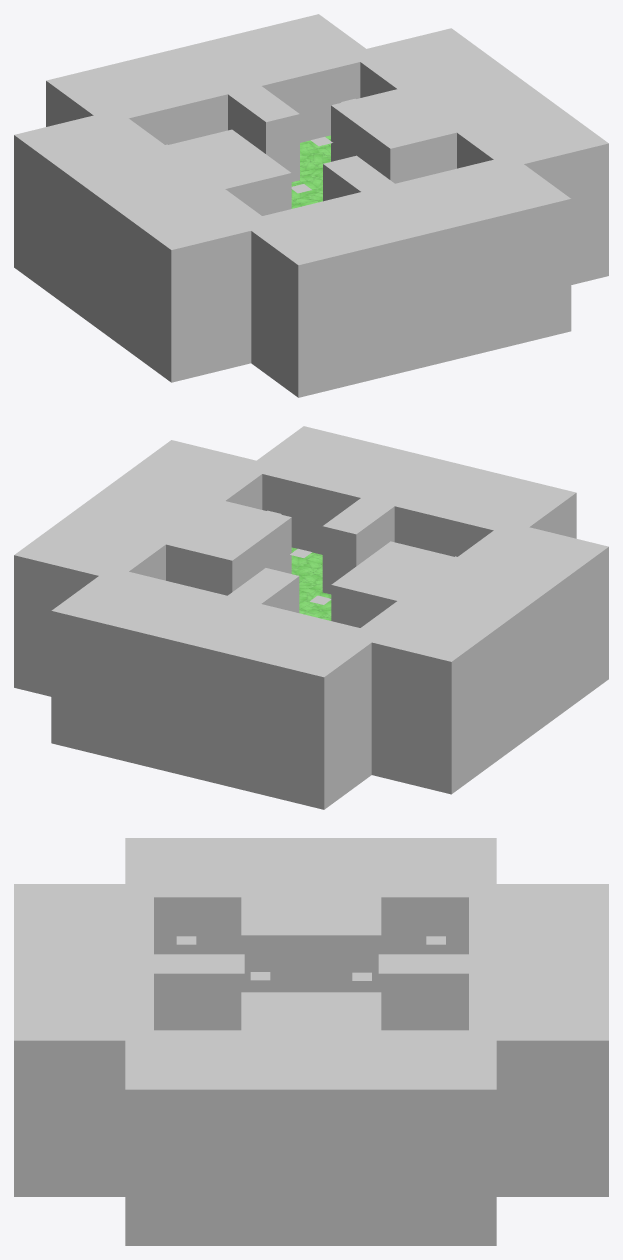
File: level_00.glb
3 renders of one model, top to bottom at view 1: azimuth 30°, elevation 25°; view 2: azimuth 150°, elevation 25°; view 3: azimuth 270°, elevation 25°, orthographic. The views are drawn at different scales.
Parts seen in each view (by area): view 1: Cube.Invisible.007, Cube.Invisible.008, Cube.Invisible.006, Cube.Invisible.004, Cube.Invisible.001, Cube.Invisible.002, Cube.Invisible.005, Cube.Invisible.003, Cube.003, Cube; view 2: Cube.Invisible.006, Cube.Invisible.008, Cube.Invisible.007, Cube.Invisible.004, Cube.Invisible.001, Cube.Invisible.002, Cube.Invisible.003, Cube.Invisible.005, Cube.002, Cube; view 3: Cube.Invisible.004, Cube.Invisible.006, Cube.Invisible.007, Cube.Invisible.008, Cube.Invisible.002, Cube.Invisible.005, Cube.Invisible.003, Cube.Invisible.001.
Boxes of the visible parts, left/top/right/bottom form: Cube.Invisible.007: left=239, top=155, right=571, bottom=397; Cube.Invisible.008: left=14, top=115, right=267, bottom=382; Cube.Invisible.006: left=46, top=14, right=377, bottom=144; Cube.Invisible.004: left=354, top=28, right=608, bottom=284; Cube.Invisible.001: left=331, top=86, right=469, bottom=183; Cube.Invisible.002: left=152, top=129, right=291, bottom=215; Cube.Invisible.005: left=207, top=71, right=299, bottom=181; Cube.Invisible.003: left=323, top=155, right=415, bottom=207; Cube.003: left=300, top=135, right=330, bottom=179; Cube: left=291, top=174, right=322, bottom=208; Cube.Invisible.006: left=51, top=567, right=382, bottom=809; Cube.Invisible.008: left=354, top=527, right=608, bottom=794; Cube.Invisible.007: left=244, top=426, right=576, bottom=556; Cube.Invisible.004: left=14, top=440, right=269, bottom=696; Cube.Invisible.001: left=152, top=498, right=291, bottom=595; Cube.Invisible.002: left=331, top=541, right=470, bottom=627; Cube.Invisible.003: left=322, top=483, right=414, bottom=594; Cube.Invisible.005: left=207, top=568, right=299, bottom=619; Cube.002: left=291, top=547, right=322, bottom=591; Cube: left=299, top=586, right=331, bottom=620; Cube.Invisible.004: left=125, top=1030, right=496, bottom=1245; Cube.Invisible.006: left=469, top=884, right=608, bottom=1196; Cube.Invisible.007: left=14, top=884, right=153, bottom=1196; Cube.Invisible.008: left=125, top=838, right=496, bottom=954; Cube.Invisible.002: left=241, top=889, right=381, bottom=992; Cube.Invisible.005: left=378, top=954, right=518, bottom=1030; Cube.Invisible.003: left=104, top=954, right=244, bottom=1030; Cube.Invisible.001: left=241, top=992, right=381, bottom=1038.
Bounding box in the file's own units: 60.46 × 17.5 × 60.41.
1 material, 1 textured.
